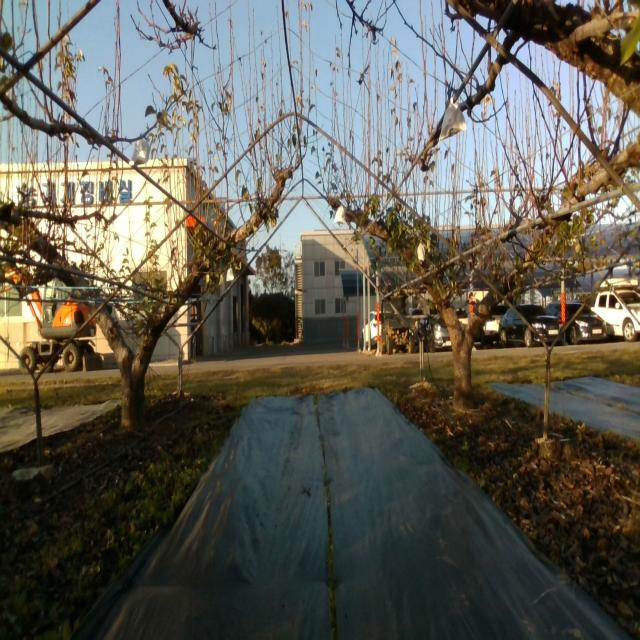pearbags: (438, 95, 468, 143), (128, 136, 150, 166), (334, 205, 346, 225), (417, 239, 427, 263)
